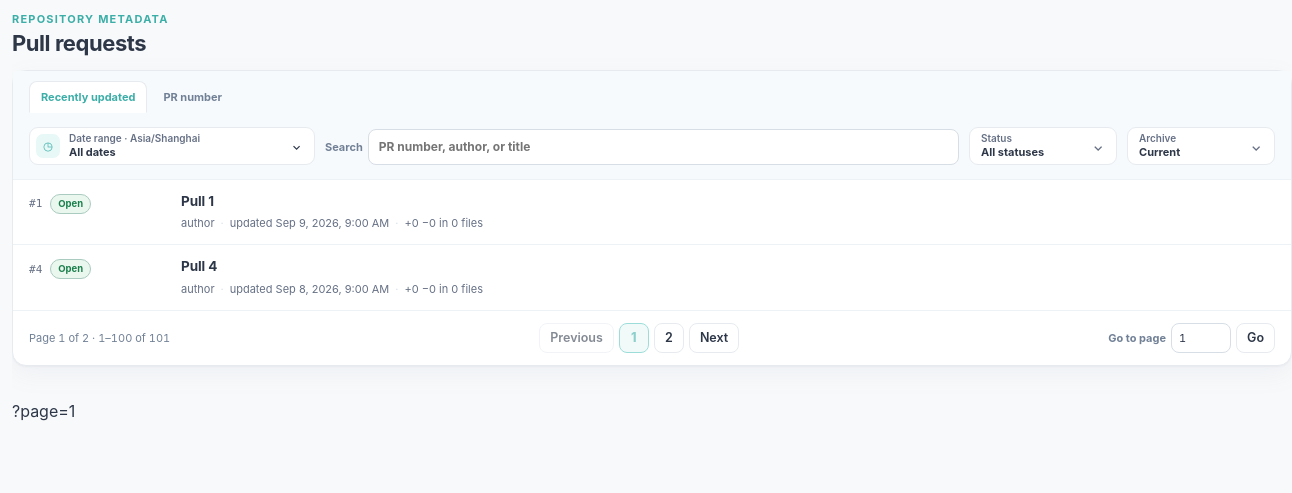
Test case: MetadataPage pull request views › uses full-dataset search parameters, view sorting, and page navigation
The image size is (1292, 493).
Expected: the heading "Pull 1" is shown, [181, 192, 214, 211]
Click the button "PR number". click: x=193, y=96
box: [151, 80, 234, 112]
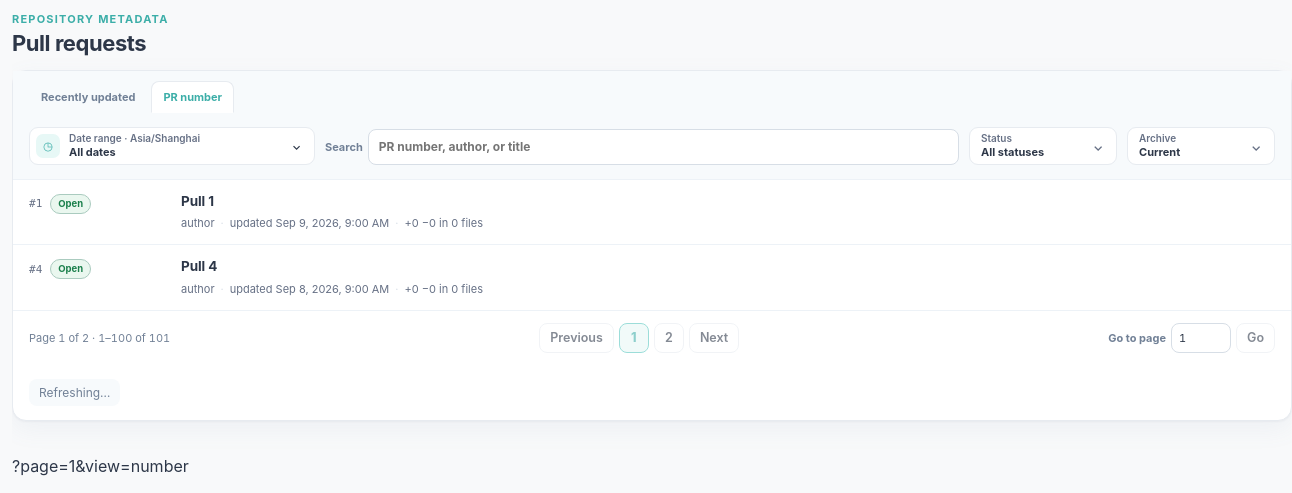
Type "Search result" into the search field named "Search list". click: x=663, y=146
box: [368, 128, 959, 164]
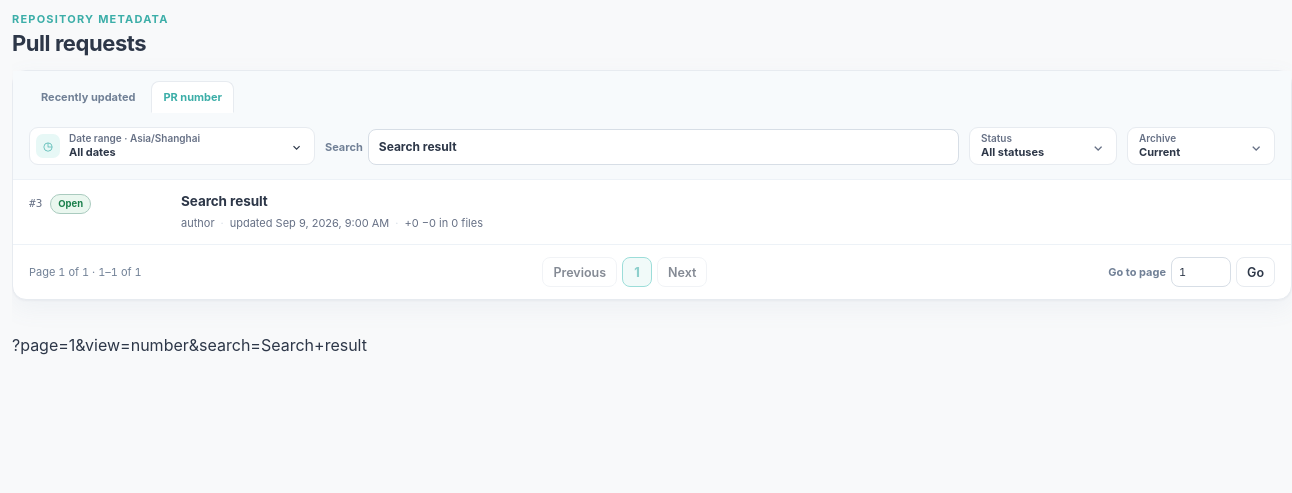
Clear the search field named "Search list". click: x=663, y=146
box: [368, 128, 959, 164]
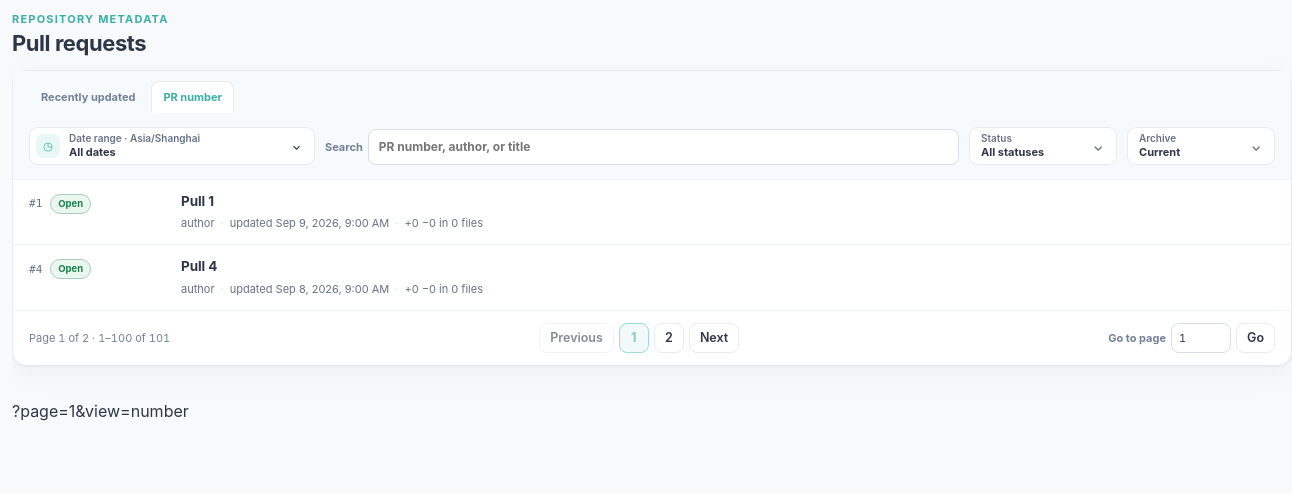
Now the button named "Go to page 2" is enabled
Click the button named "Go to page 2". click: x=669, y=338
box: [654, 322, 684, 352]
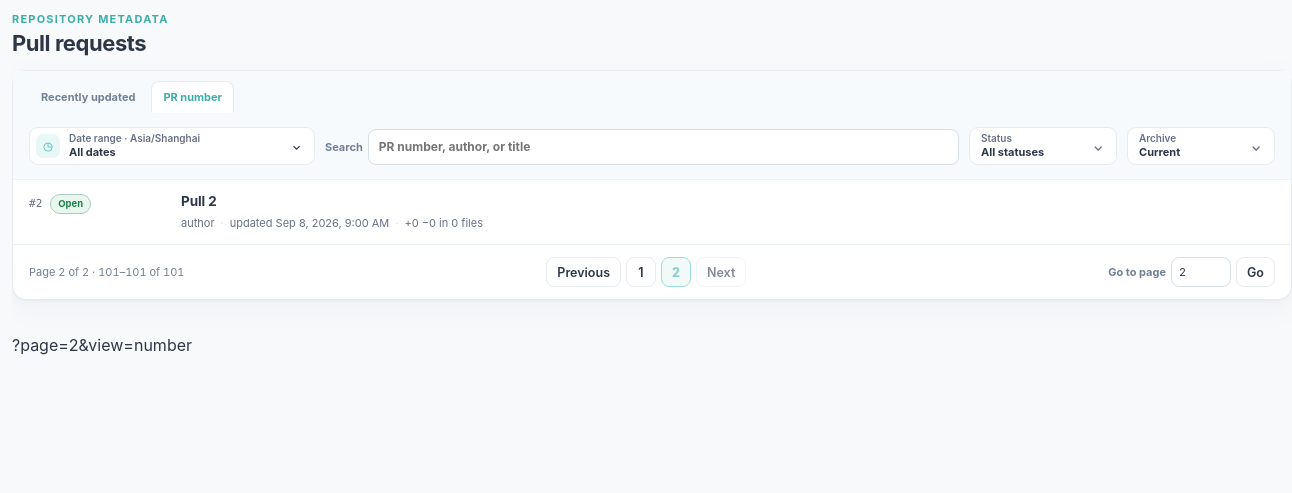
Now the heading "Pull 2" is shown, box [181, 192, 217, 211]
Now the link "Pull 1" is gone
Now the text "Page 2 of 2 · 101–101 of 101" is shown, box [29, 265, 184, 279]
